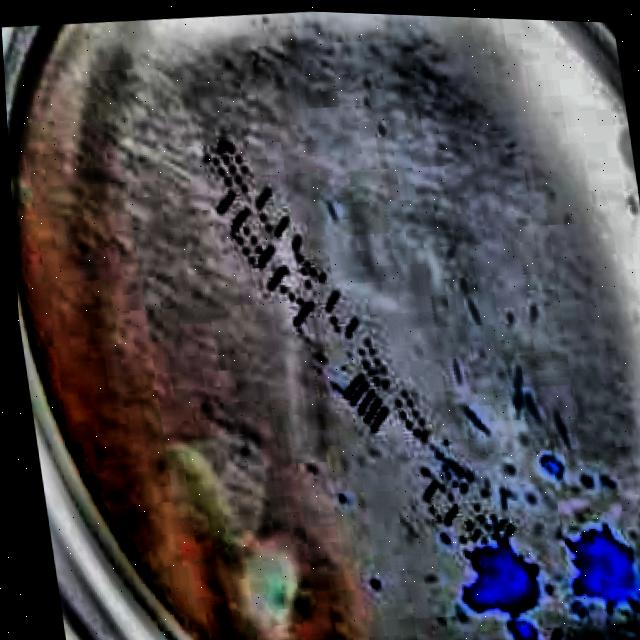metal: (1, 9, 640, 640)
